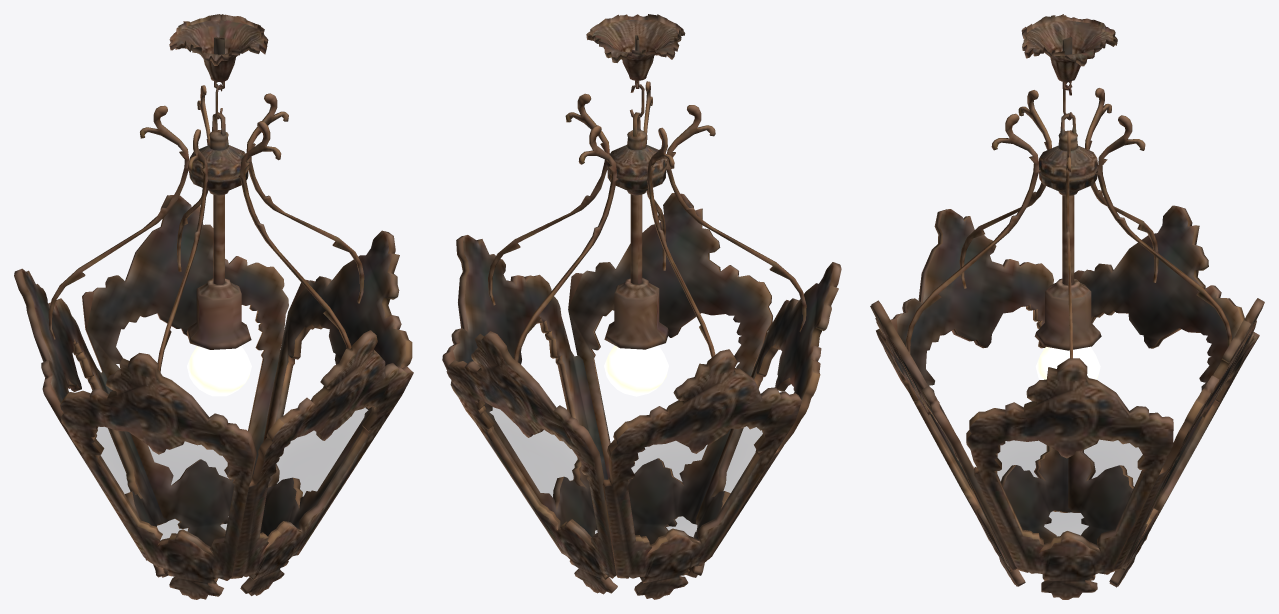
The model's file is lamp-lantern-chandelier.lite.3cd41df4.glb.
3 renders of one model, left to right at view 1: azimuth 30°, elevation 25°; view 2: azimuth 150°, elevation 25°; view 3: azimuth 270°, elevation 25°, orthographic.
Visible parts, largest first — view 1: model; view 2: model; view 3: model.
Boxes of the visible parts, left/top/right/bottom form: model: left=14, top=14, right=413, bottom=599; model: left=442, top=14, right=841, bottom=599; model: left=870, top=14, right=1264, bottom=599.
Size of the model in its own units: 0.5792 by 0.8776 by 0.5746.
Materials: 3 (2 with a texture image).
